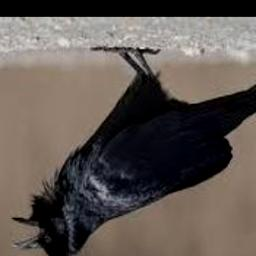Crow: (10, 47, 256, 256)
